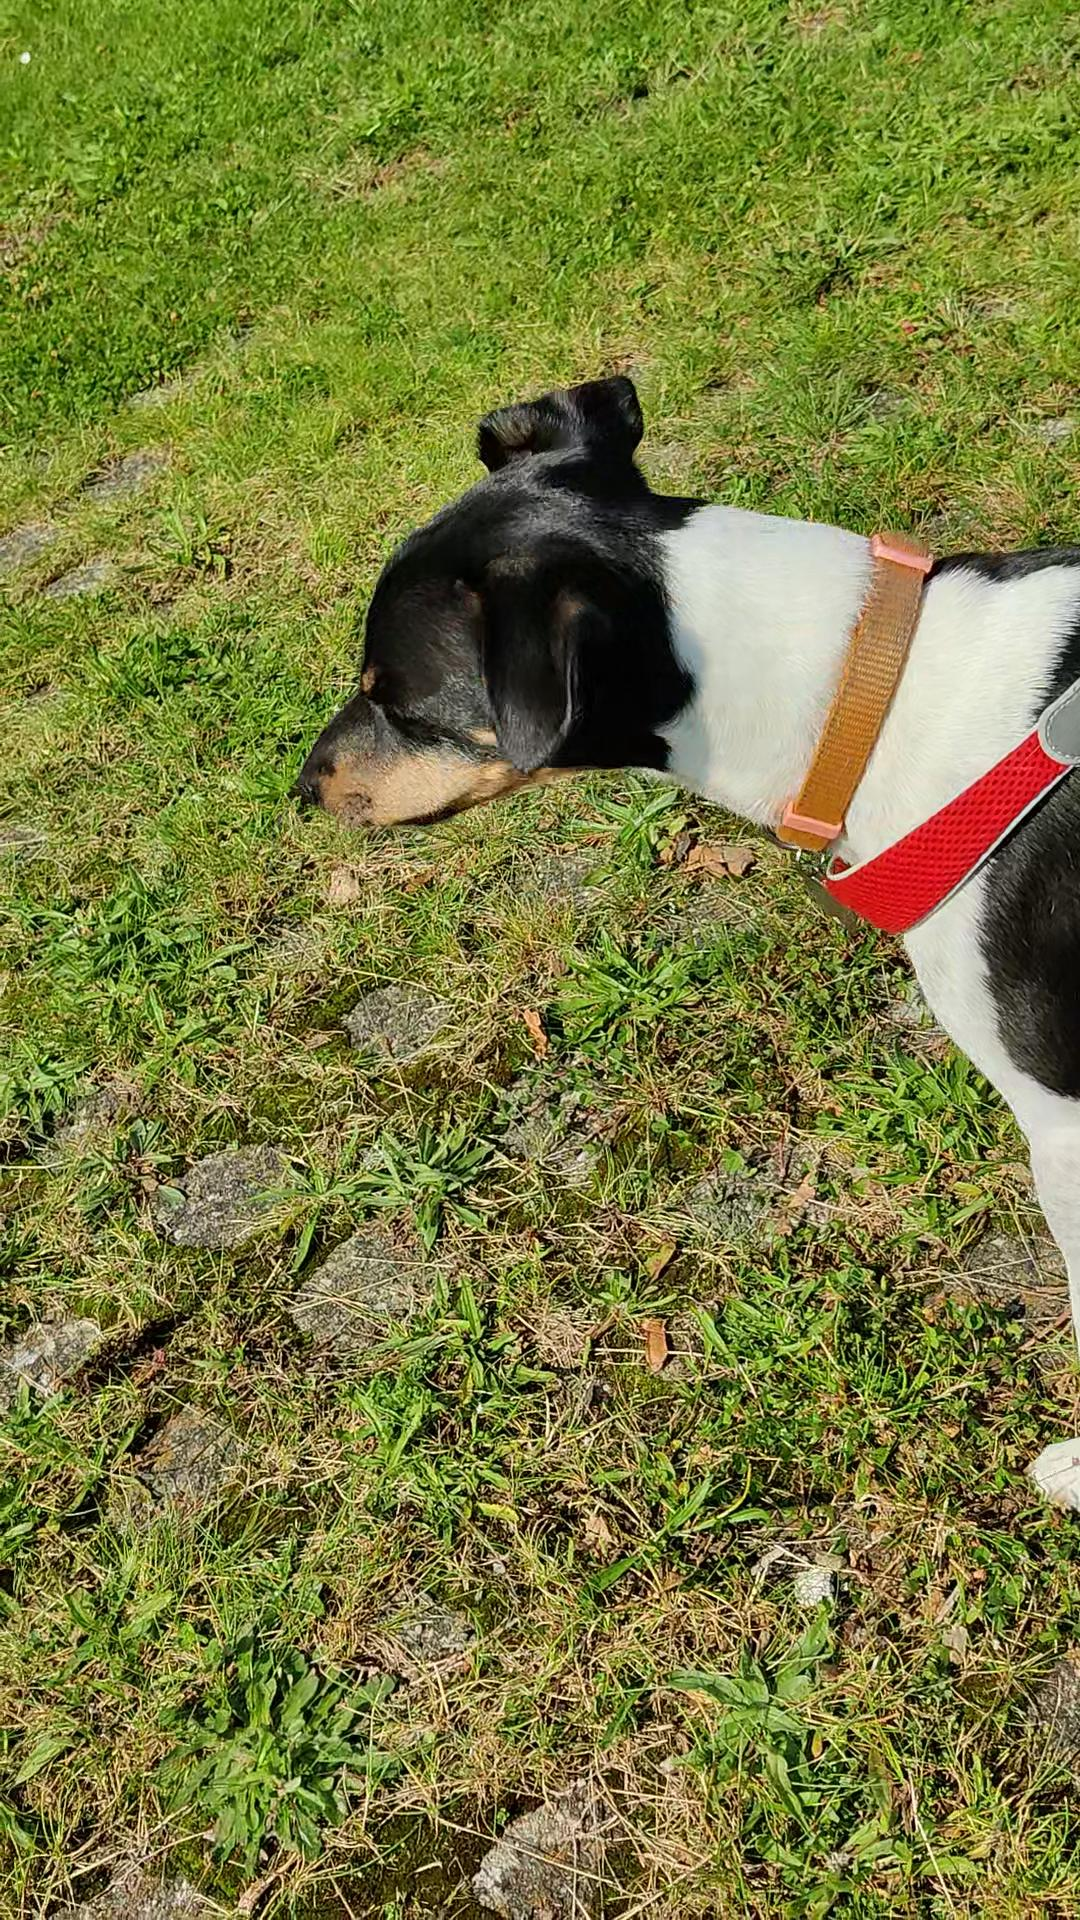Dog: (269, 316, 1079, 1564)
